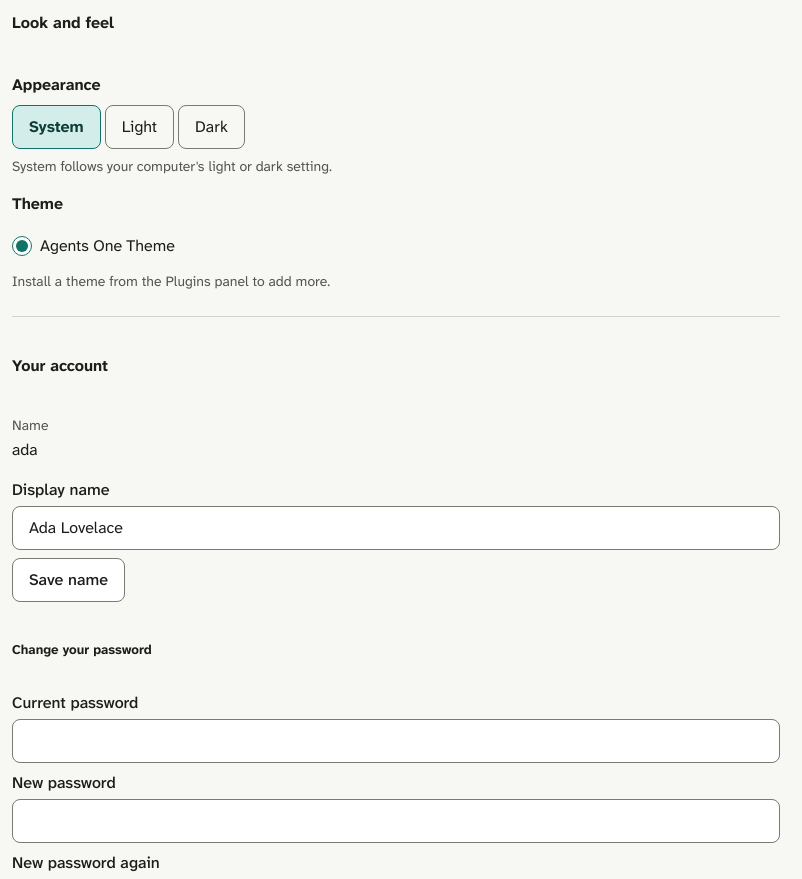
Test: Settings, your account › changes the password
Type "old-password-12345" into the password field labelled "Current password" at (396, 740), box [12,718,780,762]
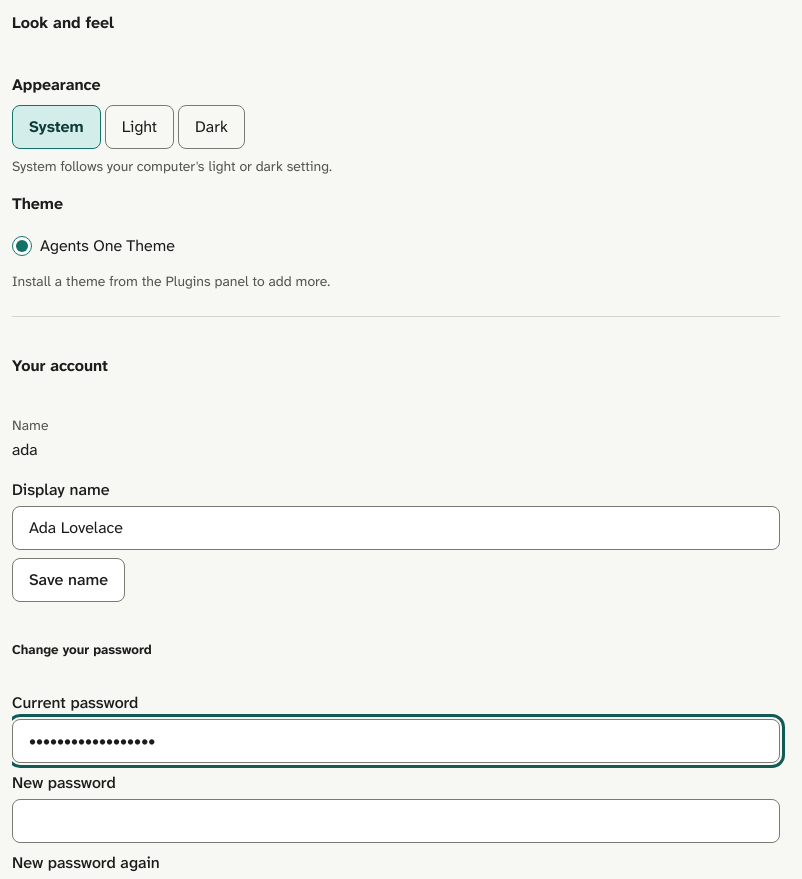
Type "test-password-12345" into the password field labelled "New password" at (396, 820), box [12,798,780,842]
(page scrolled)
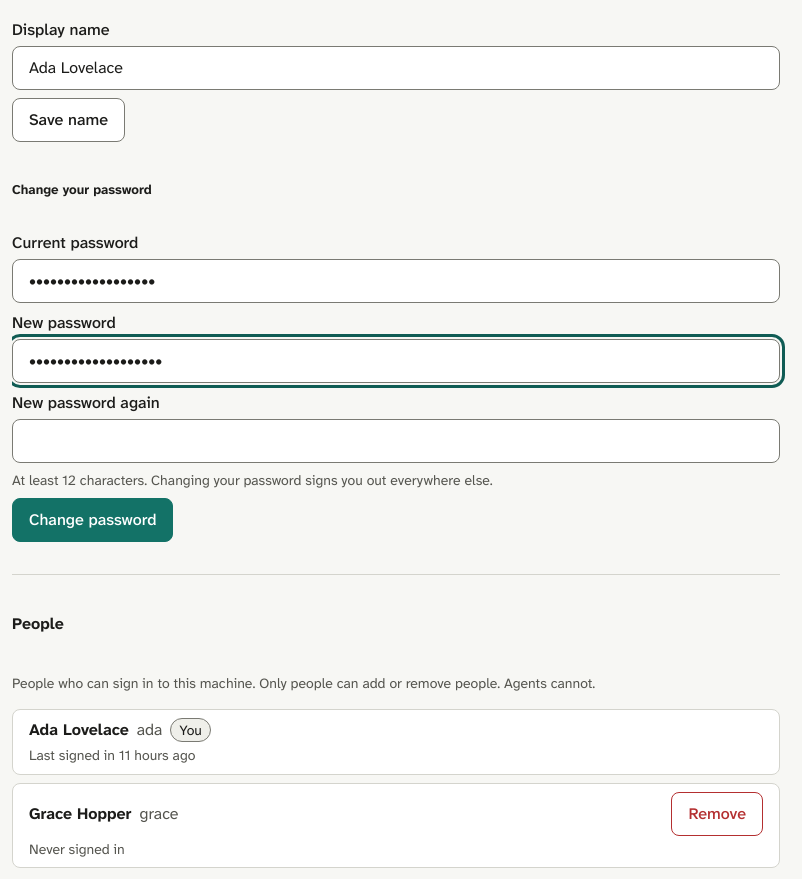
Type "test-password-12345" into the password field labelled "New password again" at (396, 440), box [12,418,780,462]
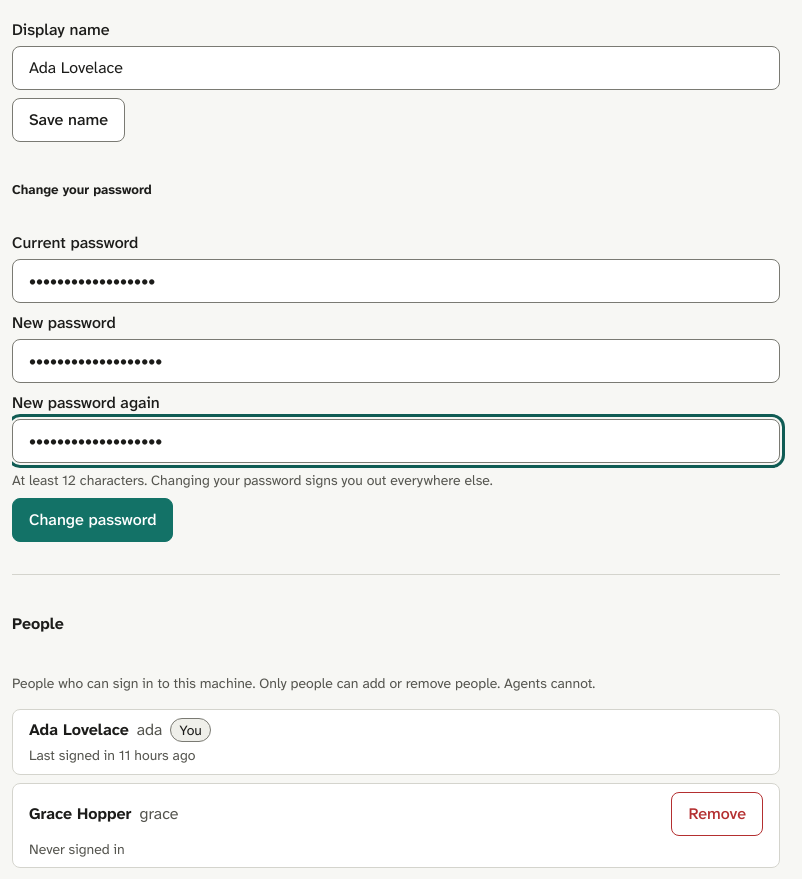
Click the button "Change password" at (93, 520), box [12,498,173,542]
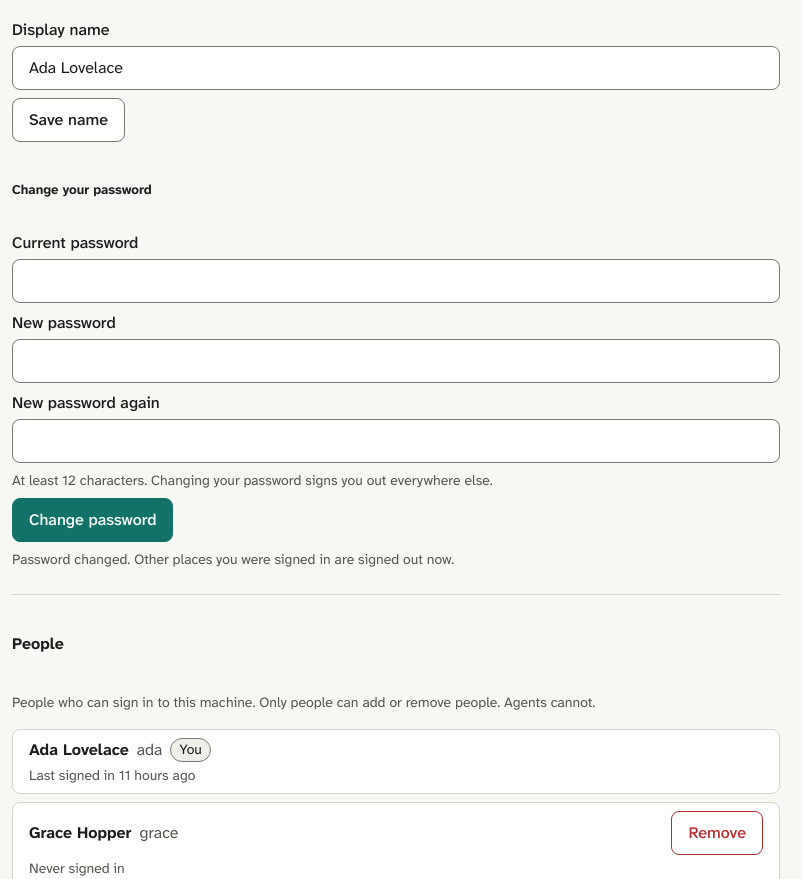
Now the text "Password changed. Other places you were signed in are signed out now." is shown, box [12,550,454,568]
Now the password field labelled "Current password" is empty, box [12,258,780,302]
Now the password field labelled "New password" is empty, box [12,338,780,382]
